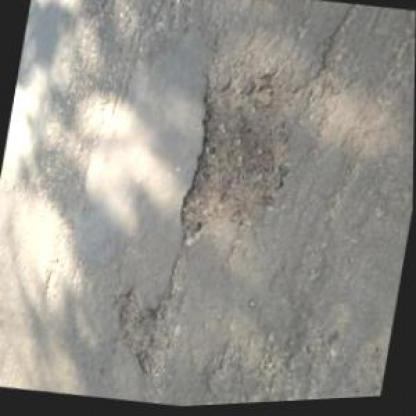pothole: (172, 56, 312, 245), (106, 280, 188, 383)
